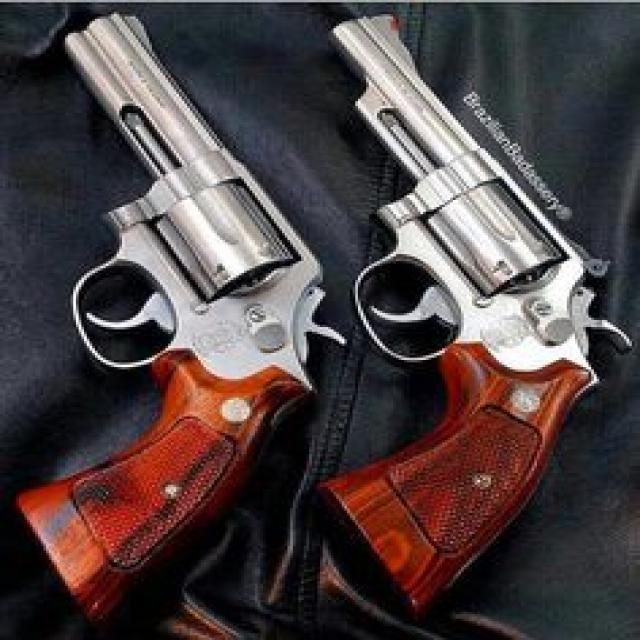revolver: (4, 2, 344, 638)
